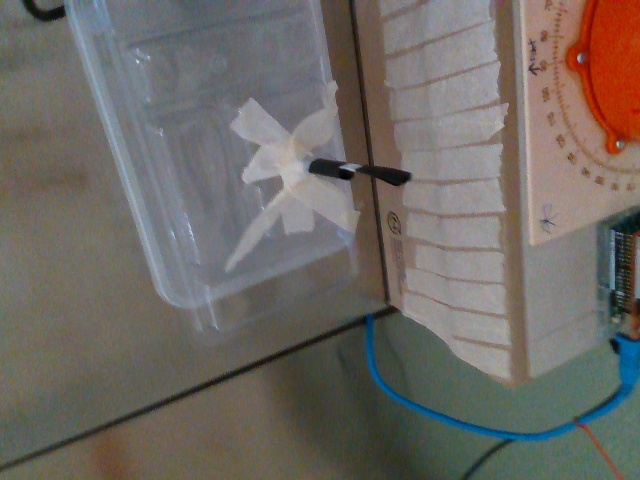test_strip: (339, 156, 412, 188)
